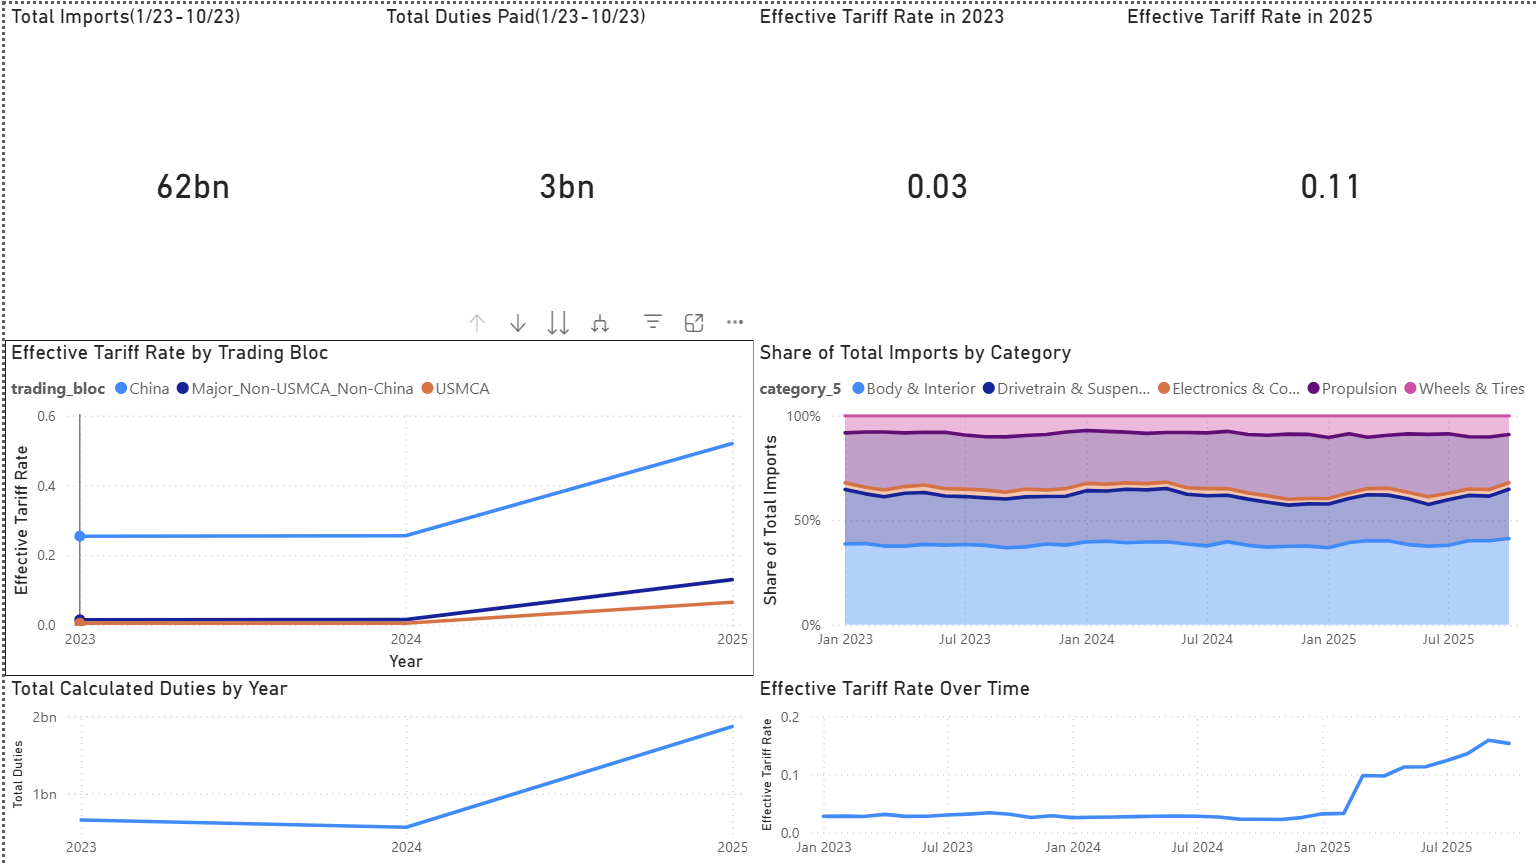

The dashboard page shown, as its layout file describes it:
{"tool":"powerbi","page":{"name":"Page 5","canvas":[1280,720],"ordinal":0},"visuals":[{"type":"card","title":"Total Imports(1/23-10/23)","fields":{"Values":["Sum(FACT_IMPORTS (2).General Customs Value)"]},"box":[0,0,312.5,280],"z":0},{"type":"card","title":"Total Duties Paid(1/23-10/23)","fields":{"Values":["Sum(Pivoted Data.Calculated Duties)"]},"box":[312.5,0,311.2,280],"z":1000},{"type":"card","title":"Effective Tariff Rate in 2023","fields":{"Values":["Pivoted Data.E2"]},"box":[623.8,0,306.2,280],"z":2000},{"type":"card","title":"Effective Tariff Rate in 2025","fields":{"Values":["Pivoted Data.E2"]},"box":[930,0,350,280],"z":3000},{"type":"lineChart","title":"Effective Tariff Rate by Trading Bloc","fields":{"Category":["DIM_TIME.year_month.Variation.Date Hierarchy.Year","DIM_TIME.year_month.Variation.Date Hierarchy.Quarter","DIM_TIME.year_month.Variation.Date Hierarchy.Month"],"Y":["Pivoted Data.E2"],"Series":["DIM_COUNTRY.trading_bloc"]},"box":[0,280,623.8,280],"z":4000},{"type":"lineChart","title":" Total Calculated Duties by Year","fields":{"Category":["DIM_TIME.year_month.Variation.Date Hierarchy.Year","DIM_TIME.year_month.Variation.Date Hierarchy.Quarter","DIM_TIME.year_month.Variation.Date Hierarchy.Month","DIM_TIME.year_month.Variation.Date Hierarchy.Day"],"Y":["Sum(Pivoted Data.Calculated Duties)"]},"box":[0,560,623.8,160],"z":5000},{"type":"lineChart","title":"Effective Tariff Rate Over Time","fields":{"Y":["Pivoted Data.E2"],"Category":["DIM_TIME.year_month.Variation.Date Hierarchy.Year","DIM_TIME.year_month.Variation.Date Hierarchy.Quarter","DIM_TIME.year_month.Variation.Date Hierarchy.Month"]},"box":[623.8,560,656.2,160],"z":6000},{"type":"hundredPercentStackedAreaChart","title":"Share of Total Imports by Category","fields":{"Y":["Sum(FACT_IMPORTS (2).General Customs Value)"],"Category":["FACT_IMPORTS (2).year_month.Variation.Date Hierarchy.Year"],"Series":["DIM_PRODUCTS (2).category_5"]},"box":[623.8,280,656.2,280],"z":7000}]}

Visuals, with their boxes in screenshot pixels (x1, y1, x2, y2), scaled from the page's 1280x720 canvas onto the 1540x864 screenshot:
"Total Imports(1/23-10/23)" card: 0, 0, 376, 336
"Total Duties Paid(1/23-10/23)" card: 376, 0, 750, 336
"Effective Tariff Rate in 2023" card: 751, 0, 1119, 336
"Effective Tariff Rate in 2025" card: 1119, 0, 1539, 336
"Effective Tariff Rate by Trading Bloc" lineChart: 0, 336, 751, 672
" Total Calculated Duties by Year" lineChart: 0, 672, 751, 863
"Effective Tariff Rate Over Time" lineChart: 751, 672, 1539, 863
"Share of Total Imports by Category" hundredPercentStackedAreaChart: 751, 336, 1539, 672
